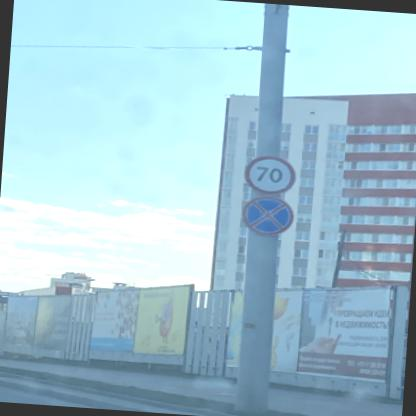speedlimit: (241, 152, 295, 194)
